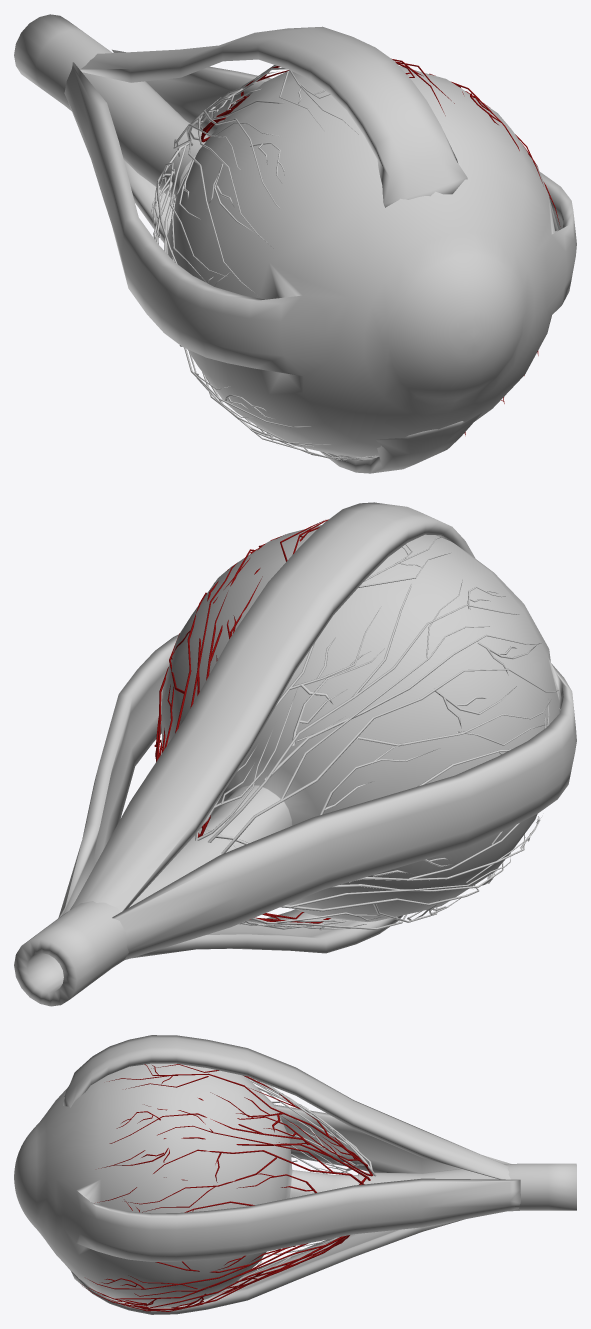
File: Full_Eye.obj
3 views of the same model, one above another, from view 1: azimuth 30°, elevation 25°; view 2: azimuth 150°, elevation 25°; view 3: azimuth 270°, elevation 25° (orthographic). The views are drawn at different scales.
Visible parts, largest first — view 1: full, Box05, Cylinder01, polySurface9, Box07, polySurface8; view 2: full, Box05, polySurface9, Cylinder01, Box07, polySurface8; view 3: full, Box05, polySurface8, Box07, Cylinder01, polySurface9.
Part boxes in pixels (<box>): full: <box>64,49,576,457</box>; Box05: <box>80,26,467,207</box>; Cylinder01: <box>14,14,208,198</box>; polySurface9: <box>151,65,375,460</box>; Box07: <box>124,160,482,473</box>; polySurface8: <box>201,58,560,435</box>; full: <box>58,525,576,960</box>; Box05: <box>70,502,475,912</box>; polySurface9: <box>195,536,560,930</box>; Cylinder01: <box>14,829,236,1006</box>; Box07: <box>130,909,402,958</box>; polySurface8: <box>154,519,330,923</box>; full: <box>14,1063,520,1307</box>; Box05: <box>63,1035,510,1179</box>; polySurface8: <box>82,1064,373,1311</box>; Box07: <box>65,1219,464,1314</box>; Cylinder01: <box>358,1163,576,1211</box>; polySurface9: <box>237,1078,376,1280</box>.
Bounding box in the file's own units: 81.44 × 80.06 × 154.
